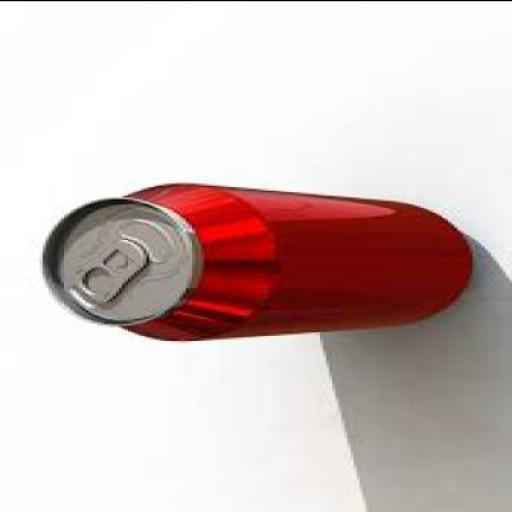metal: (36, 180, 470, 340)
